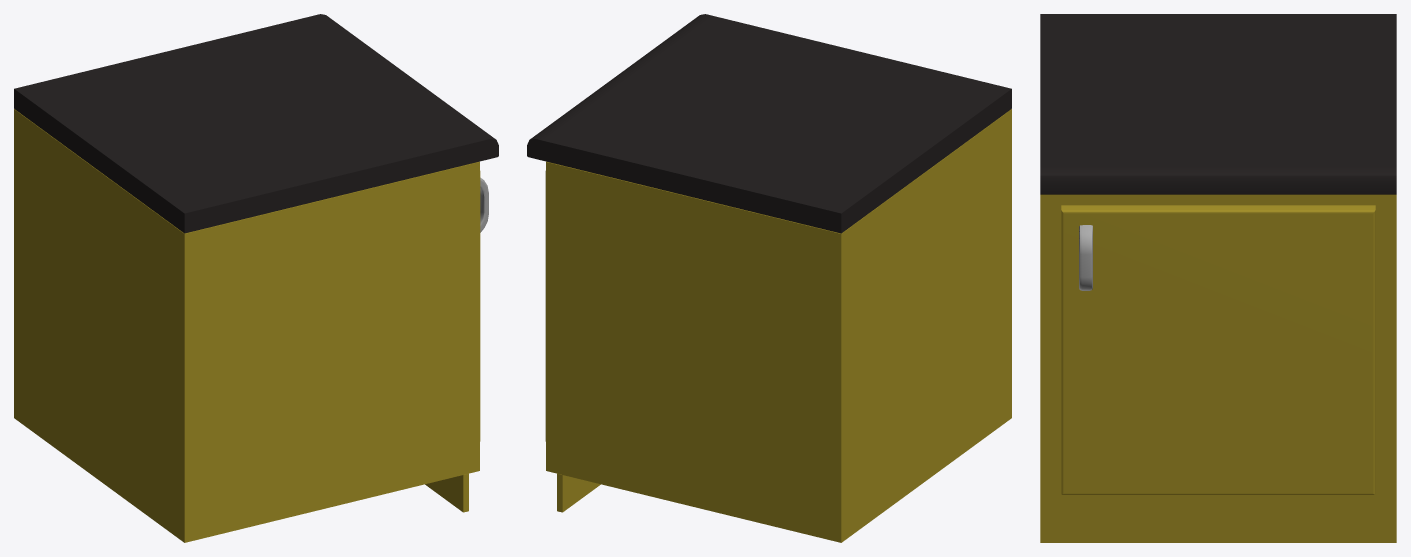
Rendered from Base Unit.fbx.
3 views of the same model, side by side, from view 1: azimuth 30°, elevation 25°; view 2: azimuth 150°, elevation 25°; view 3: azimuth 270°, elevation 25° (orthographic). The views are drawn at different scales.
Visible parts, largest first — view 1: Unit; view 2: Unit; view 3: Unit.
Part boxes in pixels (box(x1,y1,x2,y2)): Unit: box(14, 14, 498, 542); Unit: box(527, 14, 1011, 542); Unit: box(1040, 14, 1396, 542).
Size of the model in its own units: 110 by 119 by 100.
